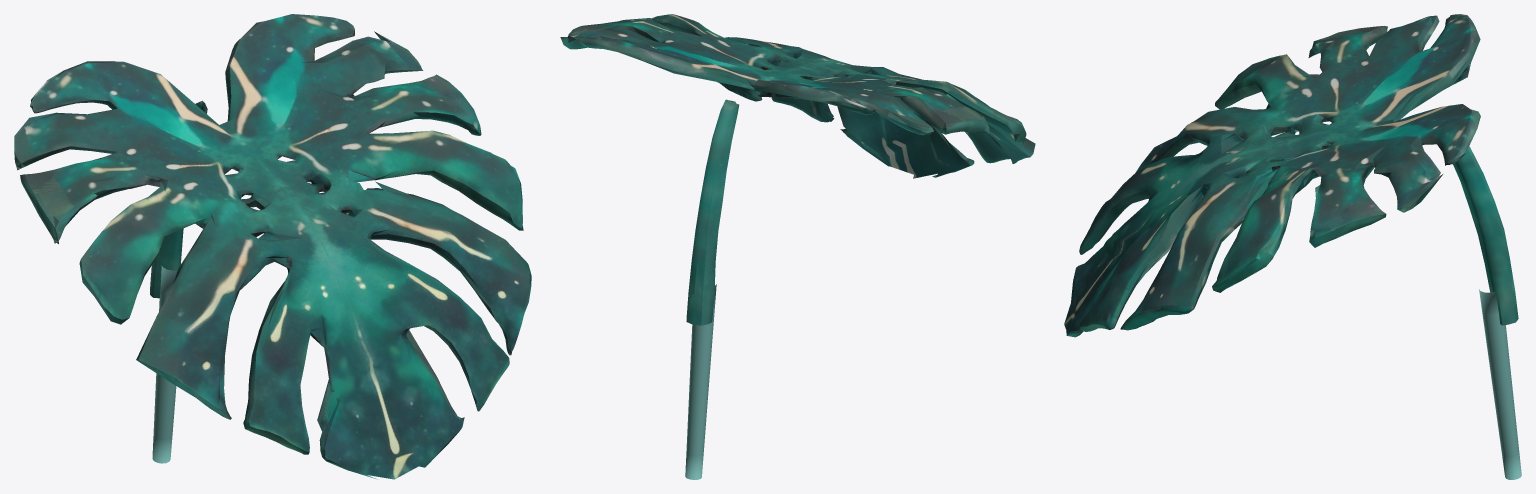
File: mon_galaxy_tealgold.glb
3 renders of one model, left to right at view 1: azimuth 30°, elevation 25°; view 2: azimuth 150°, elevation 25°; view 3: azimuth 270°, elevation 25°, orthographic. The views are drawn at different scales.
Parts seen in each view (by area): view 1: blade, petiole; view 2: blade, petiole; view 3: blade, petiole.
Boxes of the visible parts, box(x1,y1,x2,y2) form: blade: box(14, 14, 531, 479); petiole: box(152, 265, 177, 463); blade: box(560, 14, 1035, 325); petiole: box(685, 284, 716, 479); blade: box(1064, 14, 1518, 337); petiole: box(1479, 289, 1521, 479).
Size of the model in its own units: 2 by 1.93 by 1.98.
2 materials, 1 textured.
